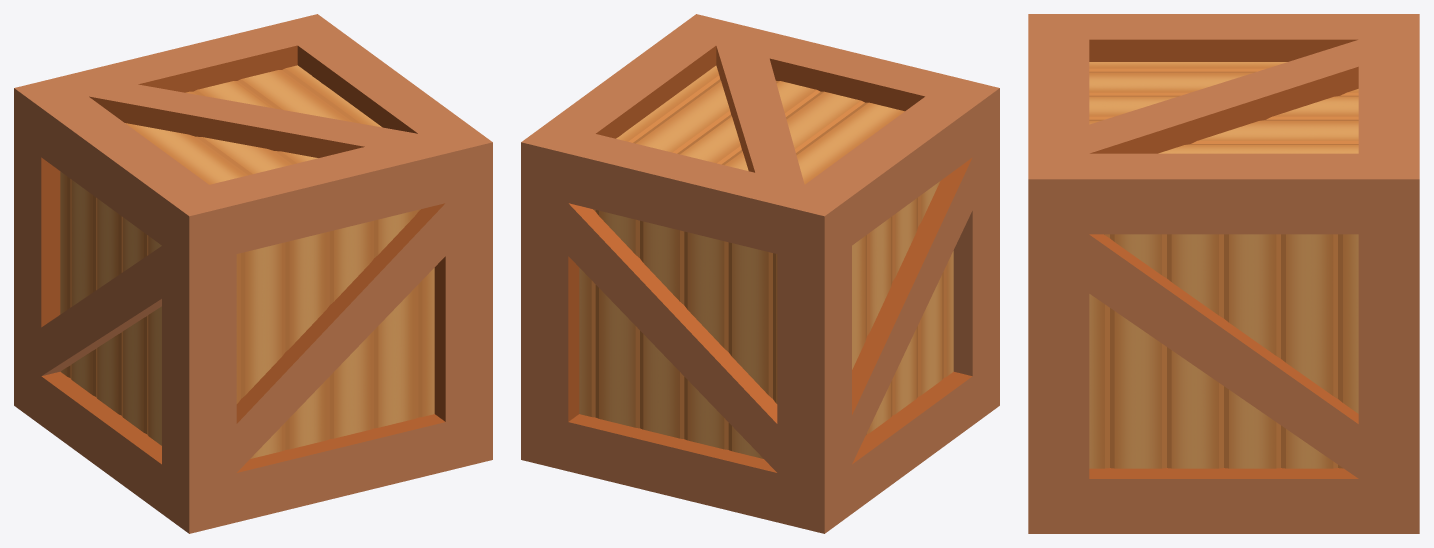
The model's file is CarateAs.fbx.
The picture shows the model from 3 angles, left to right: view 1: azimuth 30°, elevation 25°; view 2: azimuth 150°, elevation 25°; view 3: azimuth 270°, elevation 25°; orthographic projection. The views are drawn at different scales.
Visible parts, largest first — view 1: Carate; view 2: Carate; view 3: Carate.
Boxes of the visible parts, x1,y1,x2,y2 form: Carate: (14,14,492,533); Carate: (521,14,999,533); Carate: (1028,14,1419,533).
Size of the model in its own units: 2.29 by 2.29 by 2.29.
Materials: 1 (1 with a texture image).
